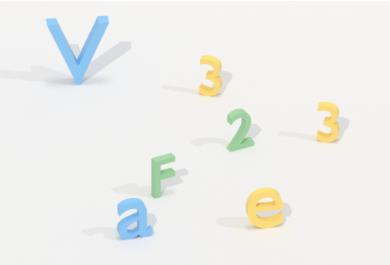2: (223, 105, 255, 155)
3: (311, 98, 344, 148), (195, 51, 226, 99)
F: (145, 149, 180, 202)
V: (40, 10, 112, 91)
a: (112, 194, 155, 244)
e: (240, 182, 289, 236)
